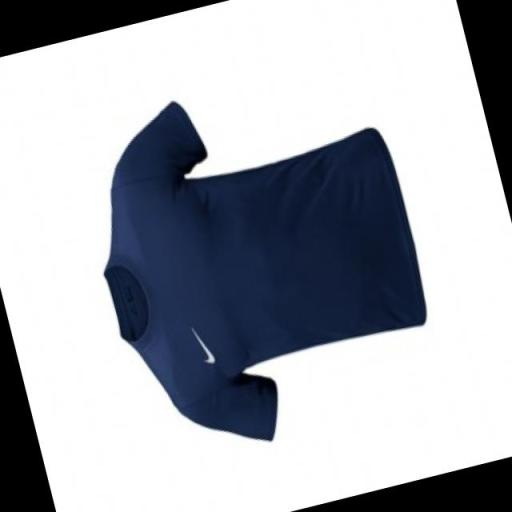Nike: (185, 320, 220, 373)
